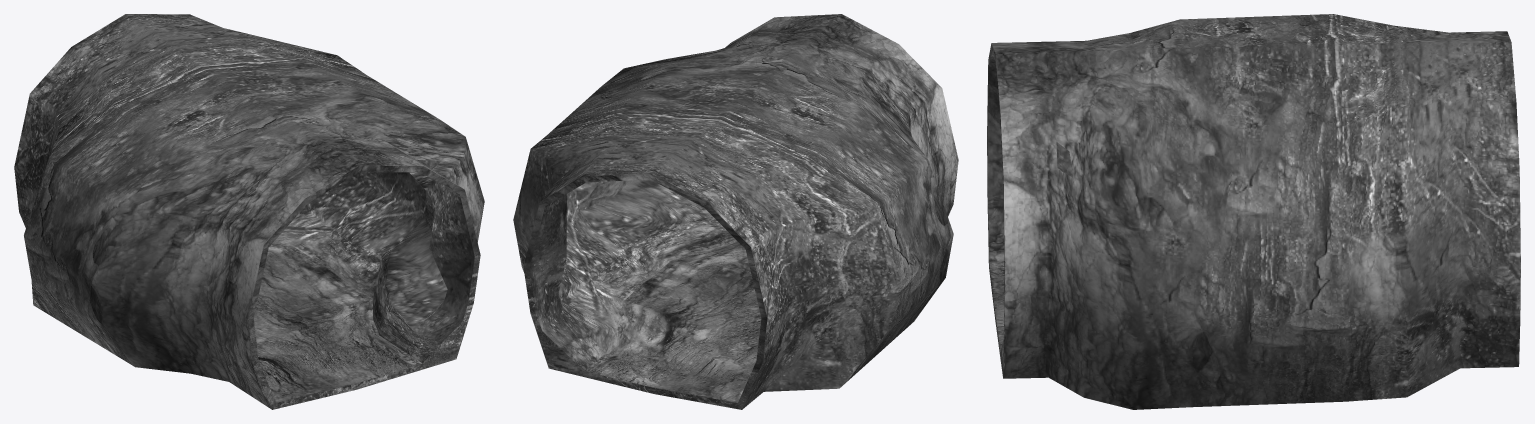
Rendered from cavecorridor2.fbx.
3 renders of one model, left to right at view 1: azimuth 30°, elevation 25°; view 2: azimuth 150°, elevation 25°; view 3: azimuth 270°, elevation 25°, orthographic. The views are drawn at different scales.
Parts seen in each view (by area): view 1: CaveCorridor2; view 2: CaveCorridor2; view 3: CaveCorridor2.
Boxes of the visible parts, bbox=[...] form: CaveCorridor2: bbox=[14, 14, 484, 409]; CaveCorridor2: bbox=[513, 14, 958, 409]; CaveCorridor2: bbox=[987, 14, 1520, 409].
Bounding box in the file's own units: 164 × 90.67 × 163.
Materials: 1 (1 with a texture image).
